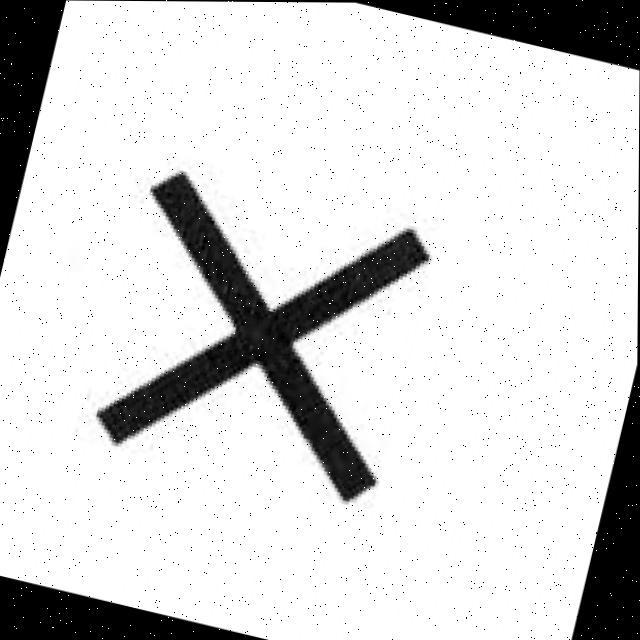cross: (80, 142, 454, 510)
